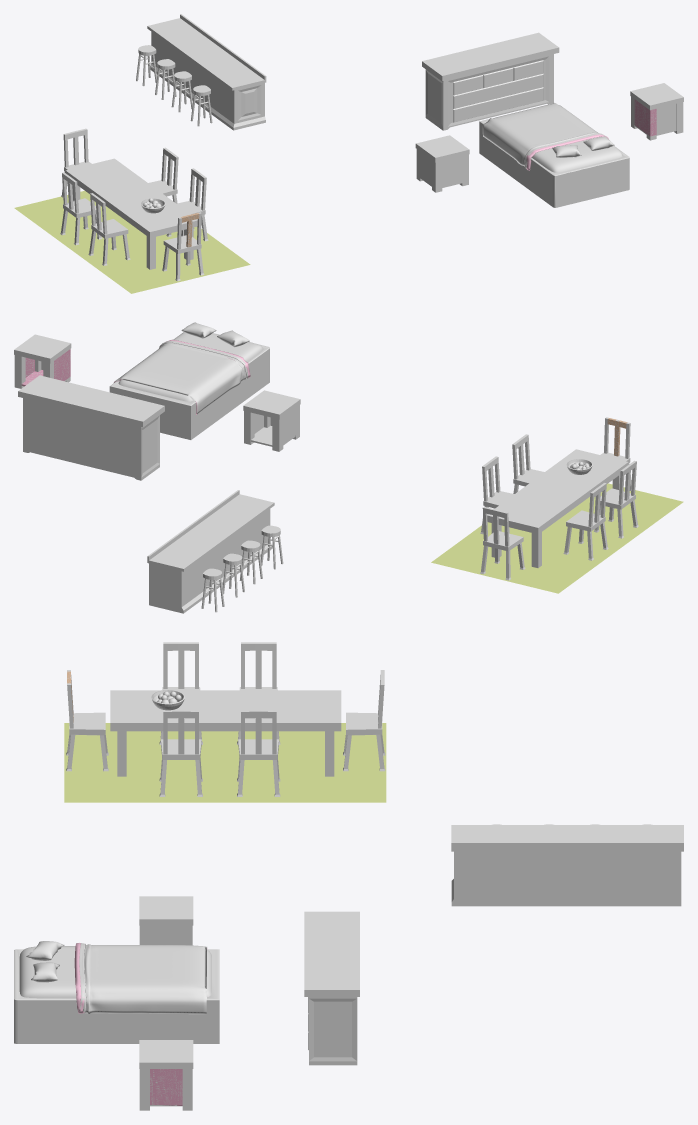
The model's file is itens_26.05.fbx.
The picture shows the model from 3 angles, top to bottom: view 1: azimuth 30°, elevation 25°; view 2: azimuth 150°, elevation 25°; view 3: azimuth 270°, elevation 25°; orthographic projection. The views are drawn at different scales.
Visible parts, largest first — view 1: cama casal, armário, tapete jantar, balcão solo.001, mesa jantar, escrivaninha, escrivaninha.001, cadeira jantar, cadeira jantar.002, cadeira jantar.001, banqueta 1, banqueta 4 (+2 smaller); view 2: cama casal, armário, tapete jantar, balcão solo.001, mesa jantar, escrivaninha, cadeira jantar.001, escrivaninha.001, cadeira jantar.002, cadeira jantar, banqueta 2, banqueta 1 (+2 smaller); view 3: cama casal, tapete jantar, balcão solo.001, mesa jantar, armário, escrivaninha.001, cadeira jantar.002, cadeira jantar.001, cadeira jantar, escrivaninha.
Part boxes in pixels (x1=…): cama casal: x1=479, y1=103, x2=629, y2=207; armário: x1=422, y1=32, x2=559, y2=130; tapete jantar: x1=14, y1=190, x2=250, y2=293; balcão solo.001: x1=147, y1=14, x2=266, y2=130; mesa jantar: x1=65, y1=158, x2=197, y2=269; escrivaninha: x1=415, y1=135, x2=469, y2=192; escrivaninha.001: x1=630, y1=83, x2=683, y2=140; cadeira jantar: x1=88, y1=168, x2=208, y2=265; cadeira jantar.002: x1=61, y1=128, x2=204, y2=281; cadeira jantar.001: x1=60, y1=147, x2=178, y2=245; banqueta 1: x1=136, y1=45, x2=156, y2=86; banqueta 4: x1=190, y1=85, x2=212, y2=126; cama casal: x1=109, y1=322, x2=269, y2=439; armário: x1=18, y1=375, x2=164, y2=480; tapete jantar: x1=431, y1=483, x2=683, y2=593; balcão solo.001: x1=147, y1=490, x2=274, y2=613; mesa jantar: x1=487, y1=449, x2=628, y2=567; escrivaninha: x1=243, y1=390, x2=300, y2=451; cadeira jantar.001: x1=480, y1=456, x2=608, y2=560; escrivaninha.001: x1=14, y1=334, x2=71, y2=388; cadeira jantar.002: x1=480, y1=417, x2=631, y2=580; cadeira jantar: x1=512, y1=434, x2=638, y2=538; banqueta 2: x1=222, y1=553, x2=244, y2=597; banqueta 1: x1=201, y1=568, x2=224, y2=612; cama casal: x1=14, y1=941, x2=219, y2=1043; tapete jantar: x1=64, y1=723, x2=386, y2=802; balcão solo.001: x1=451, y1=825, x2=683, y2=906; mesa jantar: x1=110, y1=690, x2=341, y2=776; armário: x1=304, y1=911, x2=359, y2=1065; escrivaninha.001: x1=139, y1=1040, x2=193, y2=1110; cadeira jantar.002: x1=66, y1=670, x2=385, y2=771; cadeira jantar.001: x1=237, y1=642, x2=280, y2=796; cadeira jantar: x1=159, y1=642, x2=202, y2=796; escrivaninha: x1=139, y1=896, x2=193, y2=945.
Bounding box in the file's own units: 11953 × 1233 × 8723.
